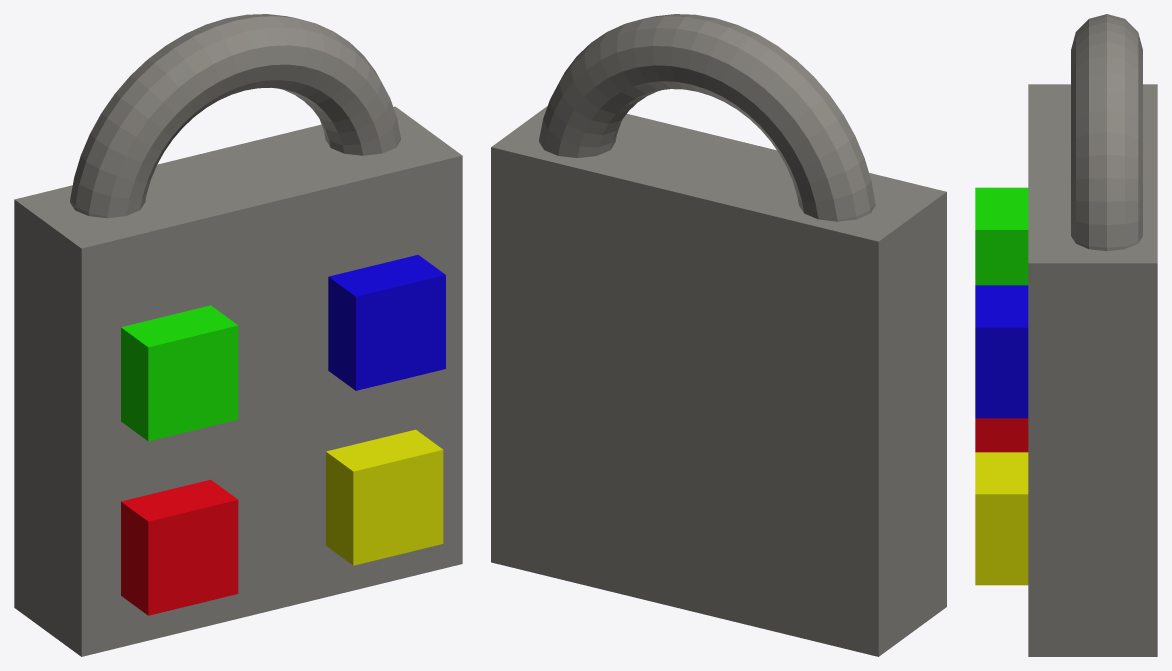
Rendered from castle.fbx.
3 views of the same model, side by side, from view 1: azimuth 30°, elevation 25°; view 2: azimuth 150°, elevation 25°; view 3: azimuth 270°, elevation 25° (orthographic). The views are drawn at different scales.
Visible parts, largest first — view 1: castie, blue, green, yellow, red; view 2: castie; view 3: castie, blue, yellow, green, red.
Part boxes in pixels (x1,y1,x2,y2): castie: (14, 14, 462, 656); blue: (328, 255, 445, 390); green: (121, 305, 238, 441); yellow: (326, 429, 443, 565); red: (121, 479, 238, 615); castie: (491, 14, 946, 656); castie: (1028, 14, 1157, 656); blue: (975, 285, 1028, 418); yellow: (975, 452, 1028, 585); green: (975, 187, 1028, 285); red: (975, 418, 1028, 452).
Bounding box in the file's own units: 295 × 413 × 127.
